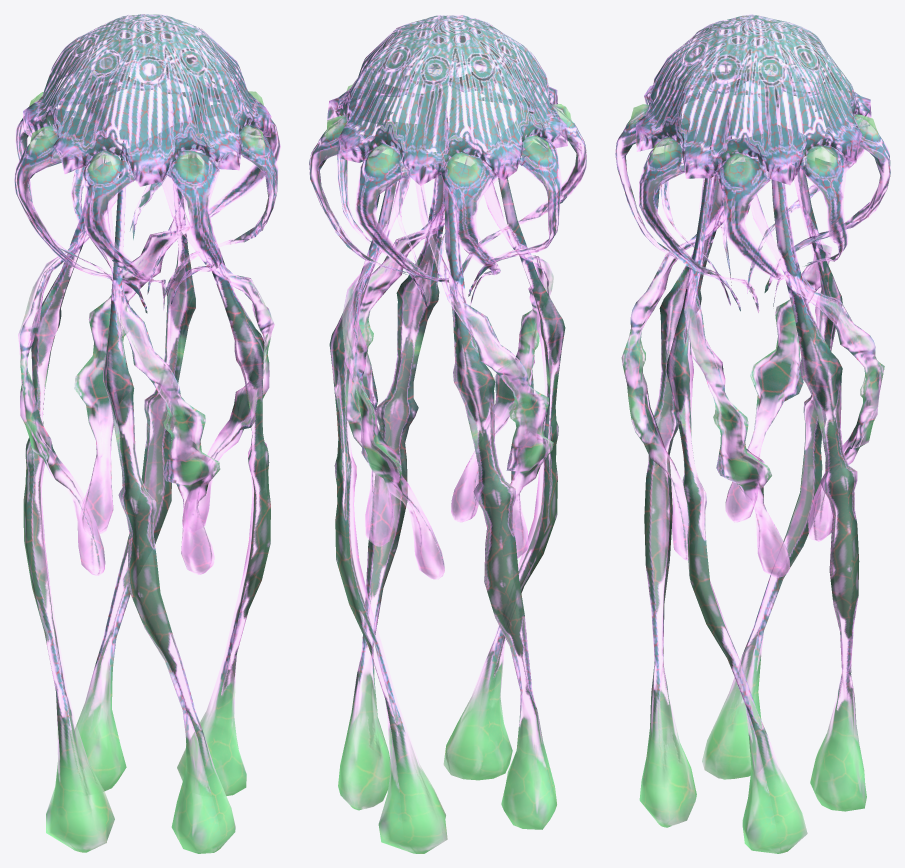
File: jellyfish.glb
The picture shows the model from 3 angles, left to right: view 1: azimuth 30°, elevation 25°; view 2: azimuth 150°, elevation 25°; view 3: azimuth 270°, elevation 25°; orthographic projection.
Parts seen in each view (by area): view 1: meduselopoly; view 2: meduselopoly; view 3: meduselopoly.
Boxes of the visible parts, x1,y1,x2,y2 form: meduselopoly: [14, 14, 280, 853]; meduselopoly: [309, 14, 586, 853]; meduselopoly: [615, 14, 890, 853].
Size of the model in its own units: 3.67 by 11.66 by 3.67.
Materials: 1 (1 with a texture image).
